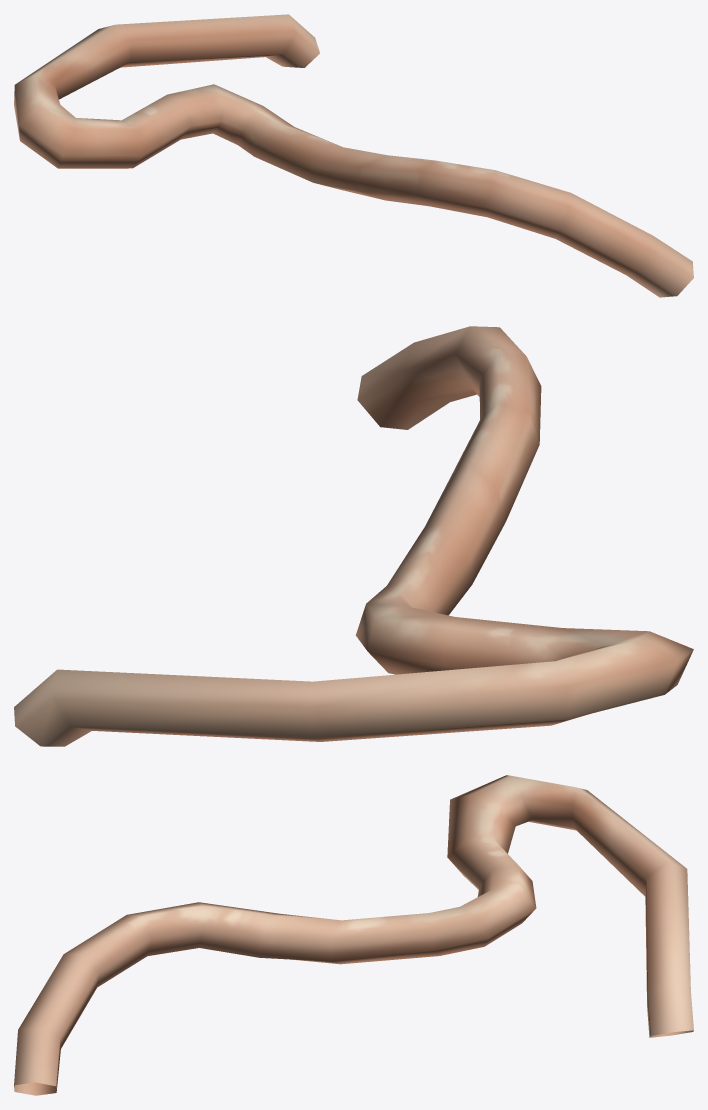
File: ramennoodles_003.fbx
3 views of the same model, one above another, from view 1: azimuth 30°, elevation 25°; view 2: azimuth 150°, elevation 25°; view 3: azimuth 270°, elevation 25° (orthographic). The views are drawn at different scales.
Visible parts, largest first — view 1: ramennoodles.003; view 2: ramennoodles.003; view 3: ramennoodles.003.
Part boxes in pixels (bbox=[...]): ramennoodles.003: bbox=[14, 14, 693, 297]; ramennoodles.003: bbox=[14, 326, 693, 746]; ramennoodles.003: bbox=[14, 775, 693, 1095].
Size of the model in its own units: 11.55 by 2.99 by 14.73.
